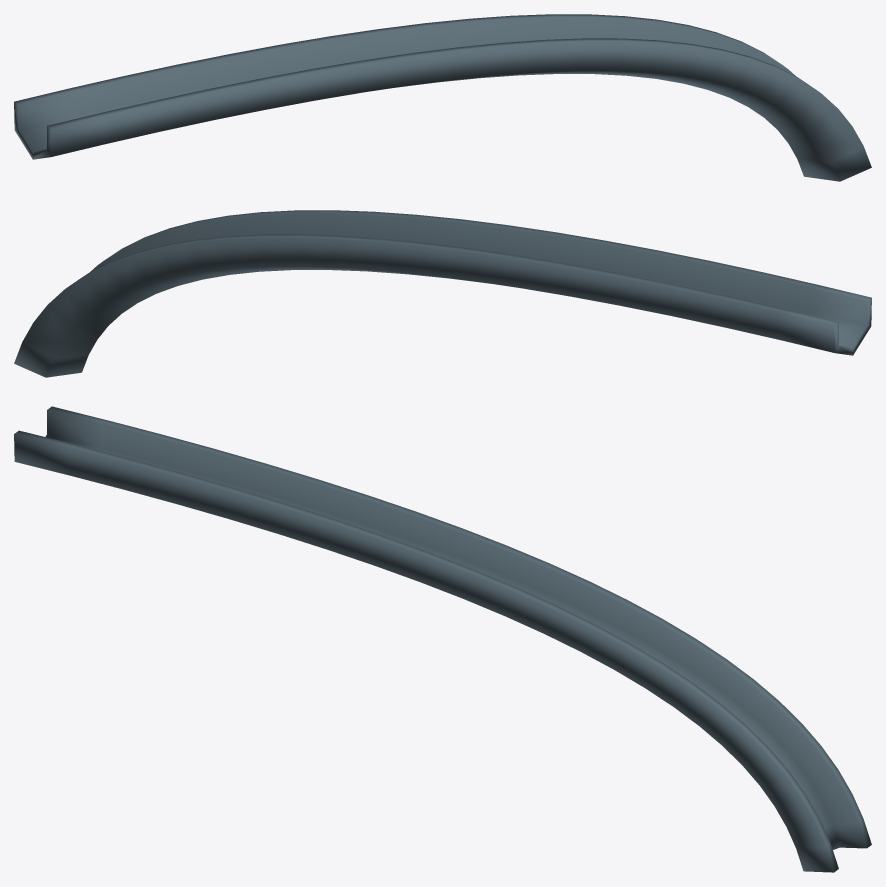
Rendered from TopEggWay.fbx.
The picture shows the model from 3 angles, top to bottom: view 1: azimuth 30°, elevation 25°; view 2: azimuth 150°, elevation 25°; view 3: azimuth 330°, elevation 25°; orthographic projection.
Visible parts, largest first — view 1: TopEggWay; view 2: TopEggWay; view 3: TopEggWay.
Part boxes in pixels (x1,y1,x2,y2): TopEggWay: (14,14,871,181); TopEggWay: (14,210,871,377); TopEggWay: (14,406,871,872).
Bounding box in the file's own units: 2.28 × 0.6635 × 0.1831.
